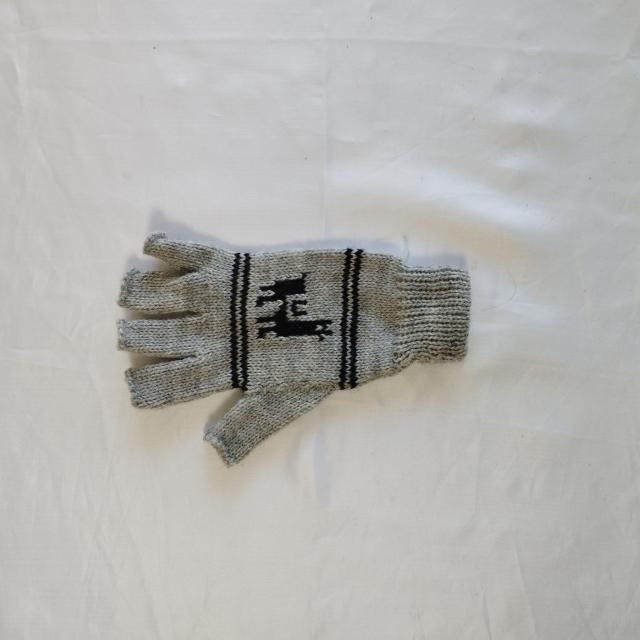Guante: (115, 230, 473, 467)
